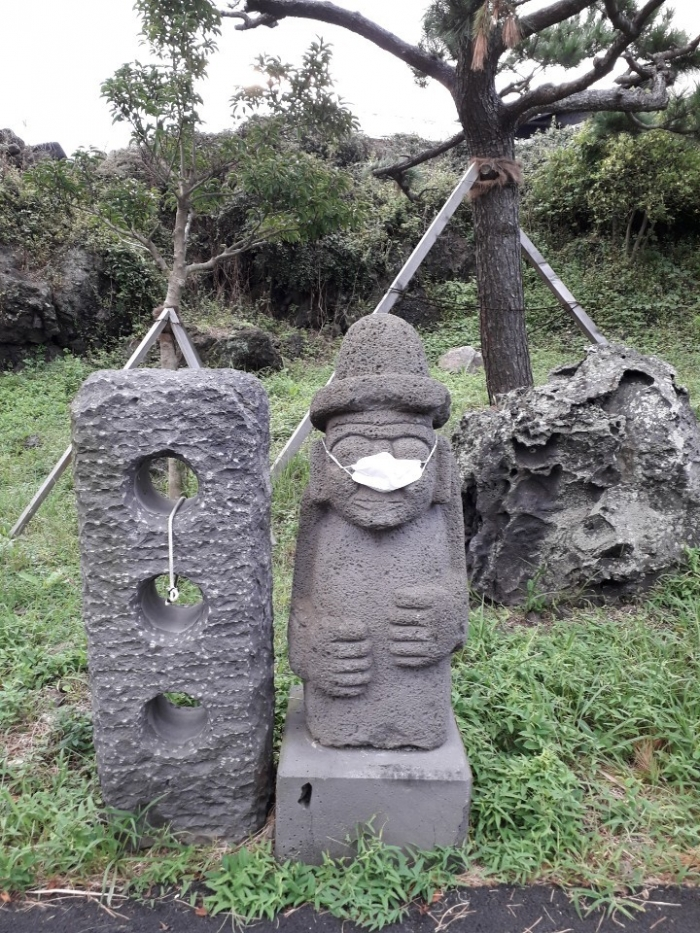Stone Statue: (246, 297, 499, 888)
